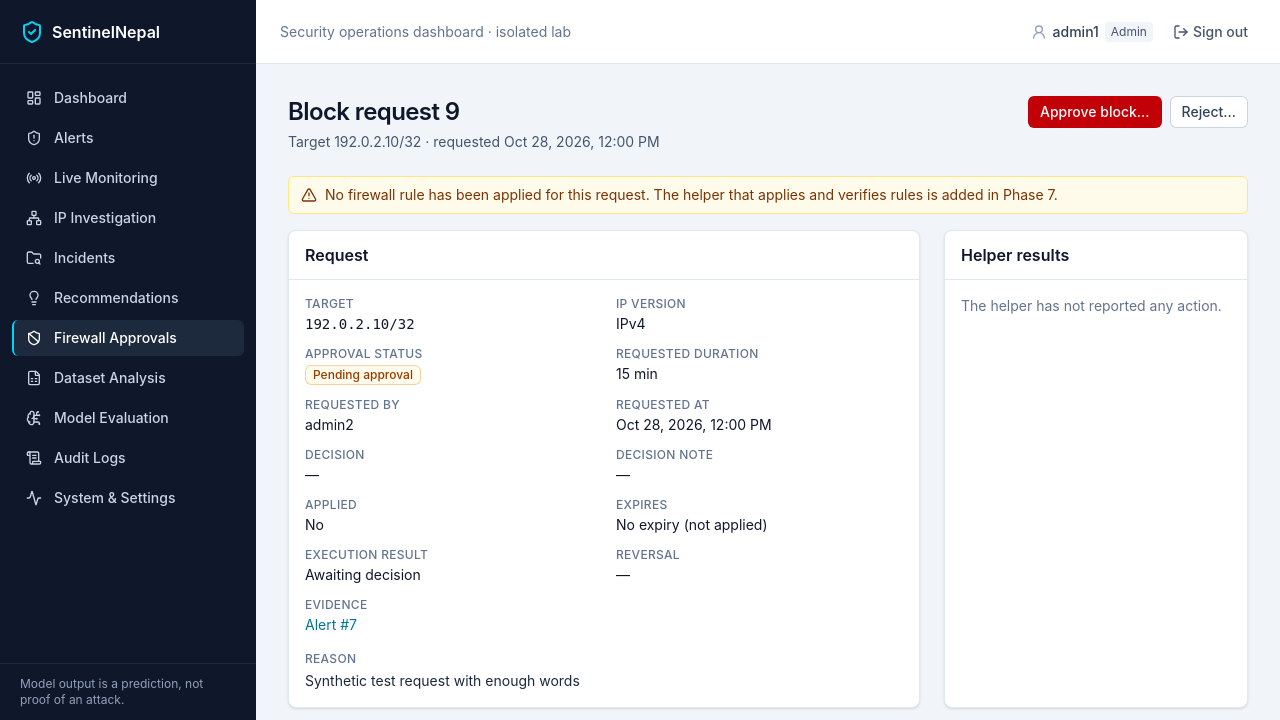
Test: Firewall approvals › rejecting requires a reason
Click the button "Reject…".
click(1209, 112)  # box [1170,96,1248,128]
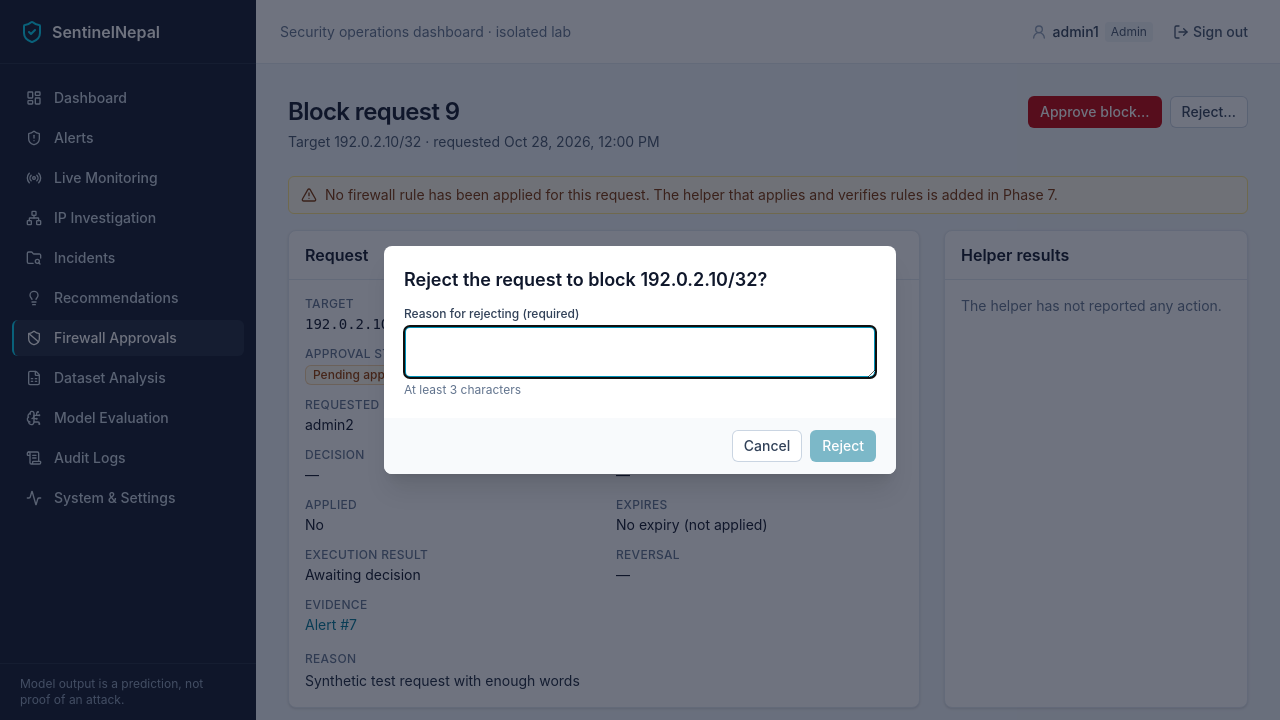
Expected: the button "Reject" is disabled, [810,430,876,462]
Type "Evidence is too weak" into the text box labelled "Reason for rejecting (required)".
click(640, 352); type("Evidence is too weak")  # box [404,326,876,378]
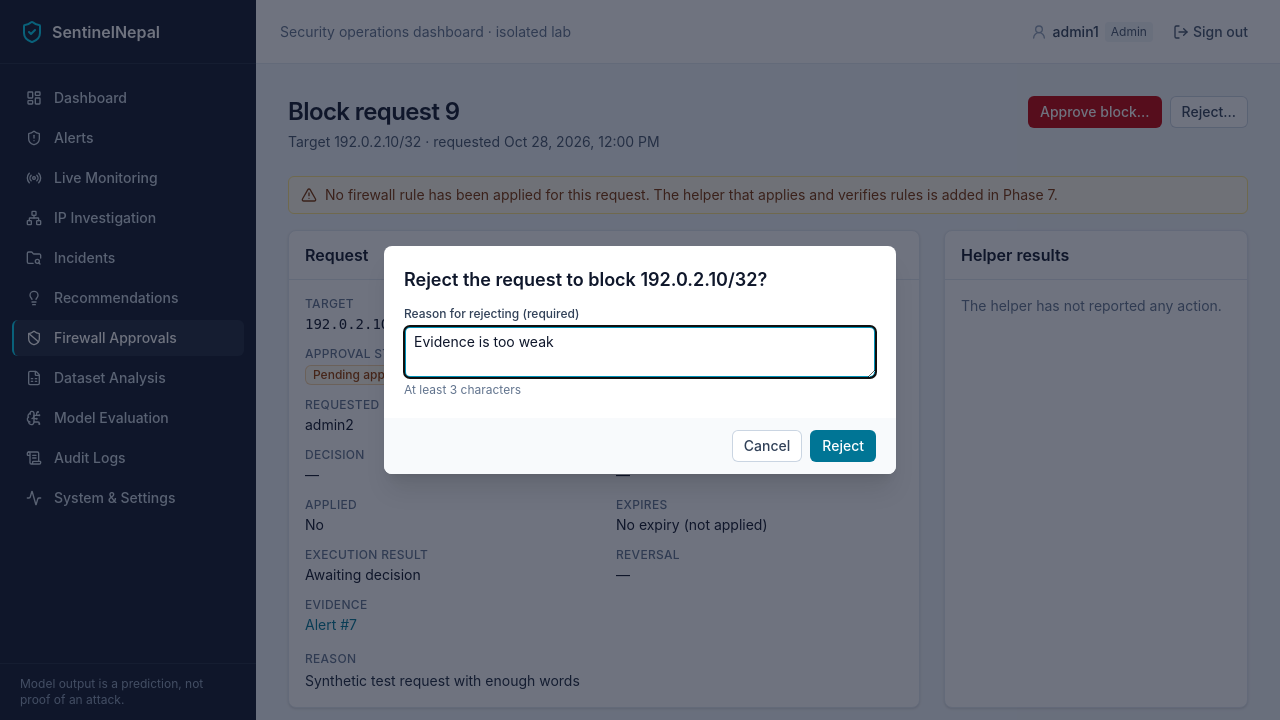
Click the button "Reject".
click(843, 446)  # box [810,430,876,462]
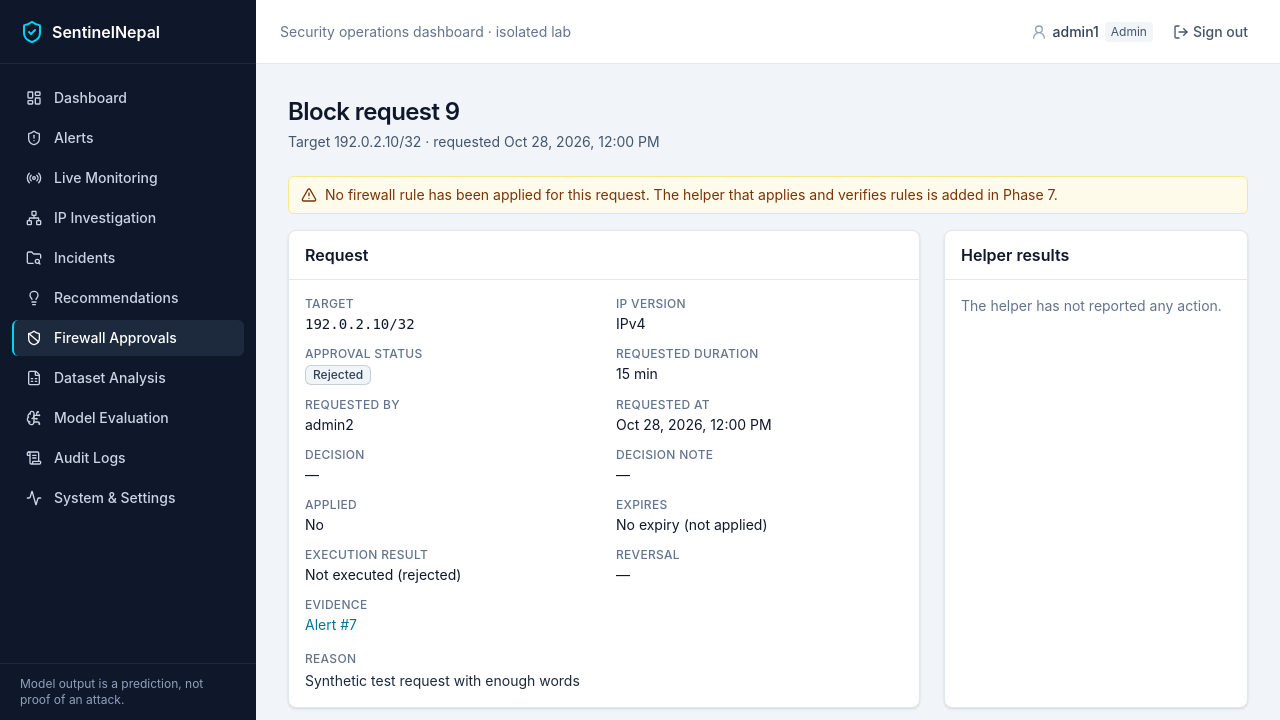
Expected: the text "Not executed (rejected)" is shown, [305,566,461,583]
